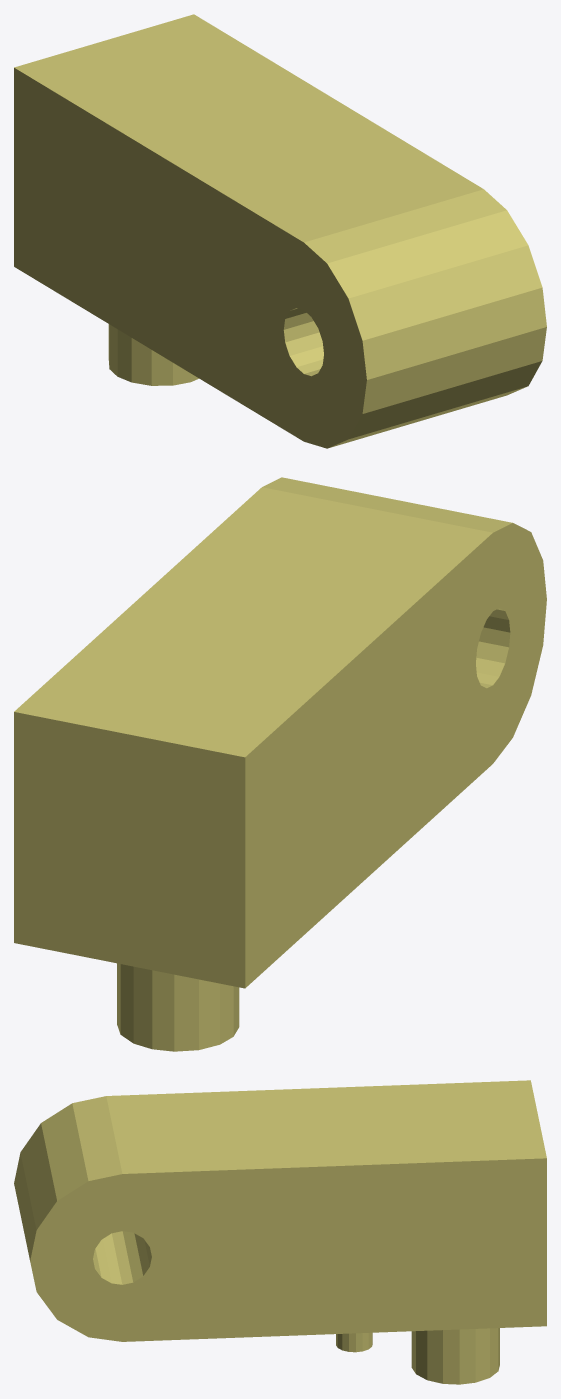
Rendered from LARM_RING1_LINK_mesh.dae.
3 renders of one model, top to bottom at view 1: azimuth 30°, elevation 25°; view 2: azimuth 150°, elevation 25°; view 3: azimuth 270°, elevation 25°, orthographic. The views are drawn at different scales.
Parts seen in each view (by area): view 1: LARM_RING1_LINK; view 2: LARM_RING1_LINK; view 3: LARM_RING1_LINK.
Boxes of the visible parts, x1,y1,x2,y2 form: LARM_RING1_LINK: (14, 14, 546, 448); LARM_RING1_LINK: (14, 477, 546, 1051); LARM_RING1_LINK: (14, 1080, 546, 1384).
Size of the model in its own units: 0.0124 by 0.0145 by 0.0288.
